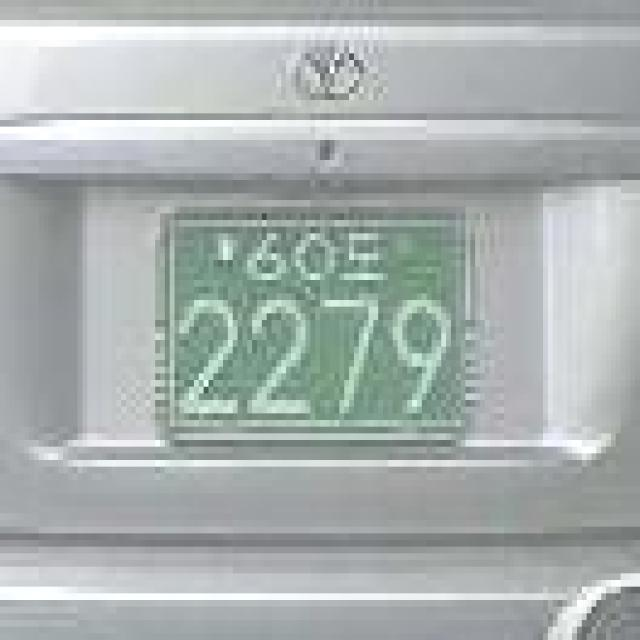illegal_plate: (151, 194, 491, 463)
